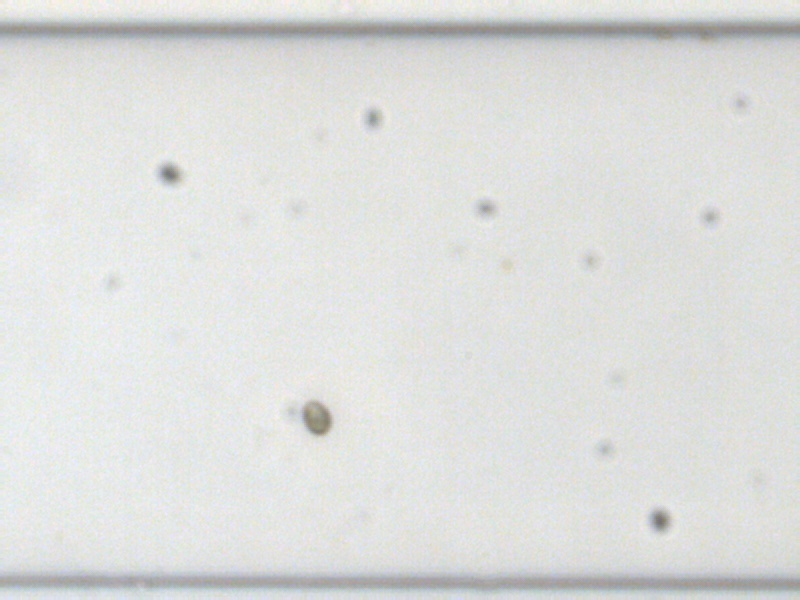Dunaliella salina: (299, 396, 332, 435)
